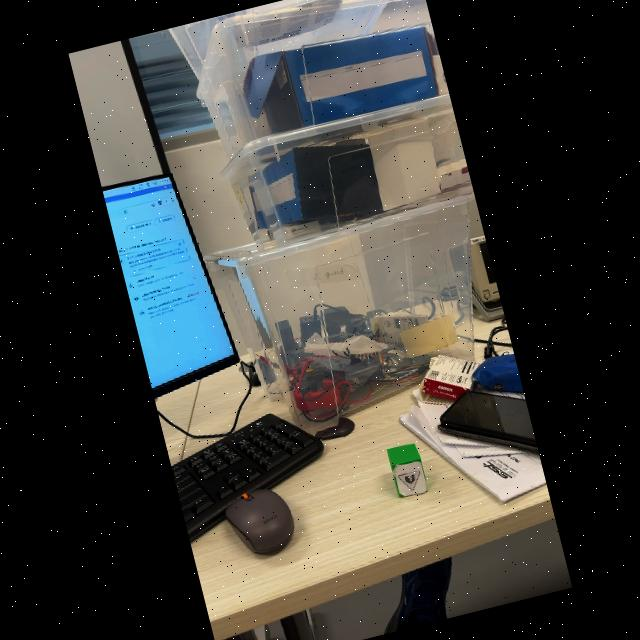Earthquake: (397, 469, 420, 489)
